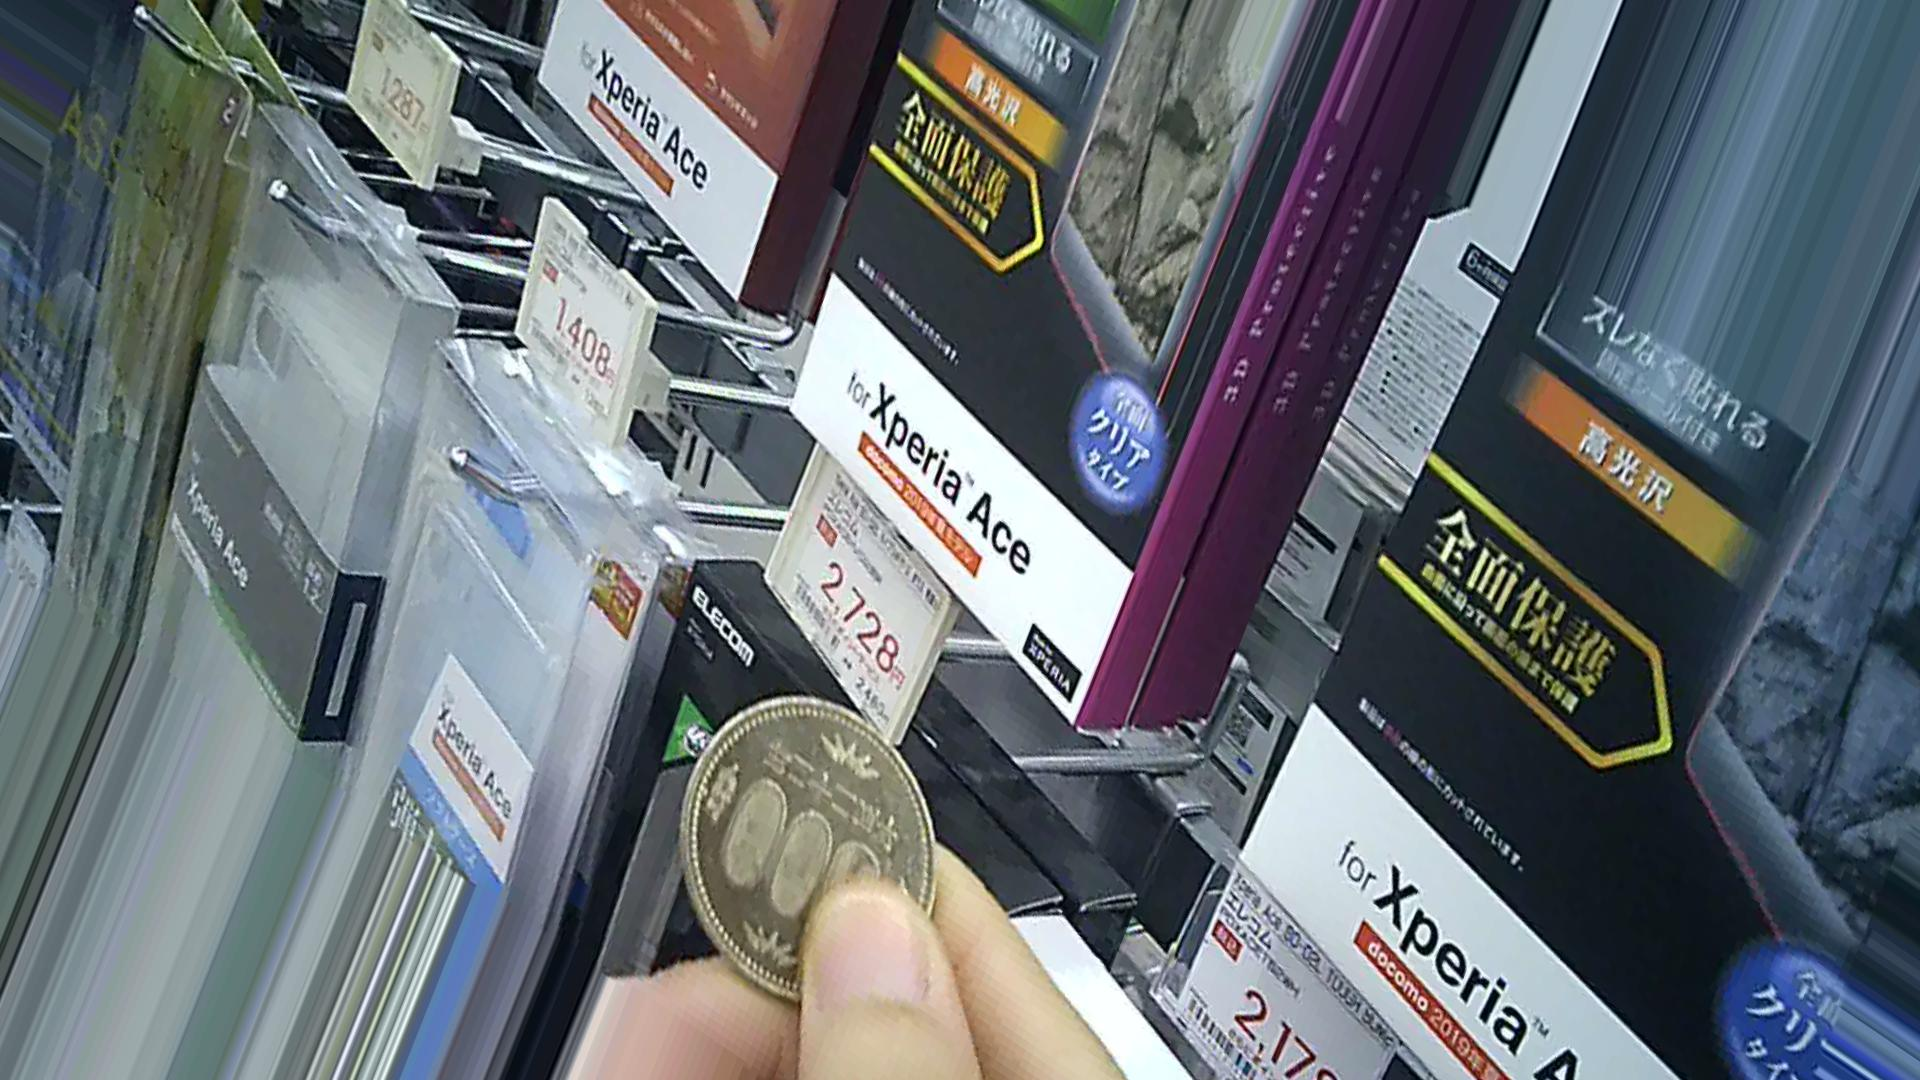500 Yen: (682, 696, 938, 997)
